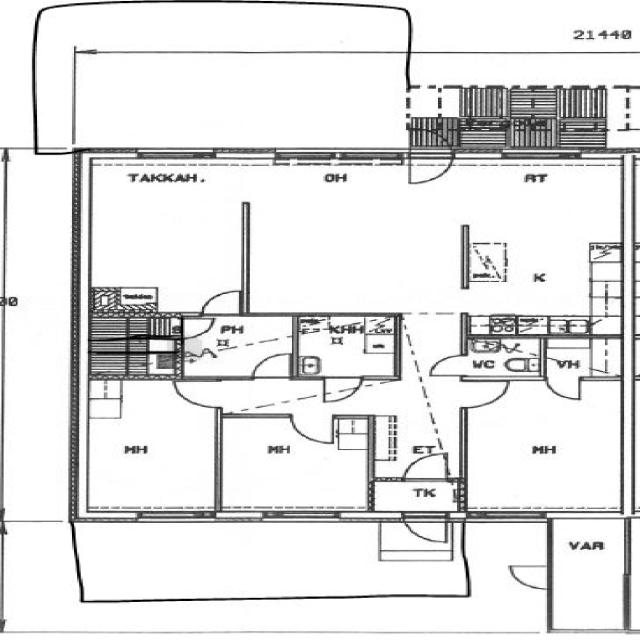door: (178, 316, 292, 377), (402, 128, 455, 187), (456, 378, 514, 410), (499, 561, 553, 594), (400, 511, 450, 546), (168, 378, 224, 409), (195, 286, 248, 318), (286, 413, 334, 446), (400, 452, 452, 482), (319, 374, 363, 406), (248, 352, 296, 380), (542, 376, 585, 403), (428, 354, 470, 378), (177, 315, 218, 339)
window: (473, 150, 589, 166), (129, 507, 216, 528), (257, 506, 348, 526), (209, 144, 284, 167), (270, 146, 345, 167), (129, 146, 214, 164), (466, 510, 552, 524), (210, 508, 267, 526)
zone: (465, 157, 624, 336), (82, 156, 248, 313), (459, 379, 625, 515), (82, 376, 218, 514), (217, 415, 370, 515), (550, 514, 627, 630), (176, 315, 295, 378), (293, 312, 400, 378), (89, 334, 180, 381), (462, 334, 542, 381), (541, 336, 624, 380), (556, 117, 610, 146)
